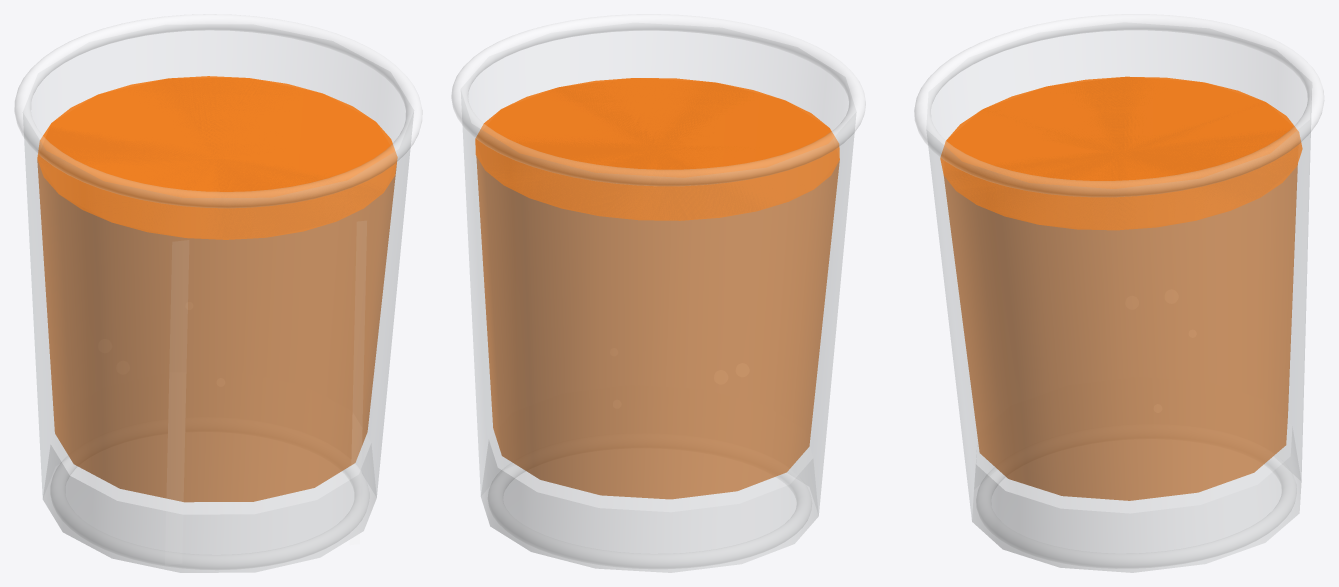
Rendered from hot-tea-glass.glb.
3 renders of one model, left to right at view 1: azimuth 30°, elevation 25°; view 2: azimuth 150°, elevation 25°; view 3: azimuth 270°, elevation 25°, orthographic.
Size of what is drawn, in the model's own units: 1.47 by 1.65 by 1.51.
